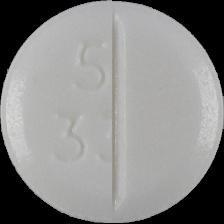66336-219: (0, 0, 224, 224)
